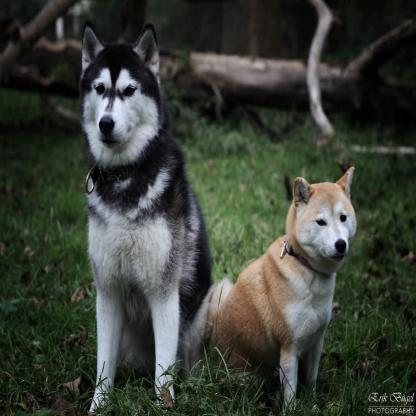husky: (77, 22, 213, 416), (210, 165, 360, 397)
